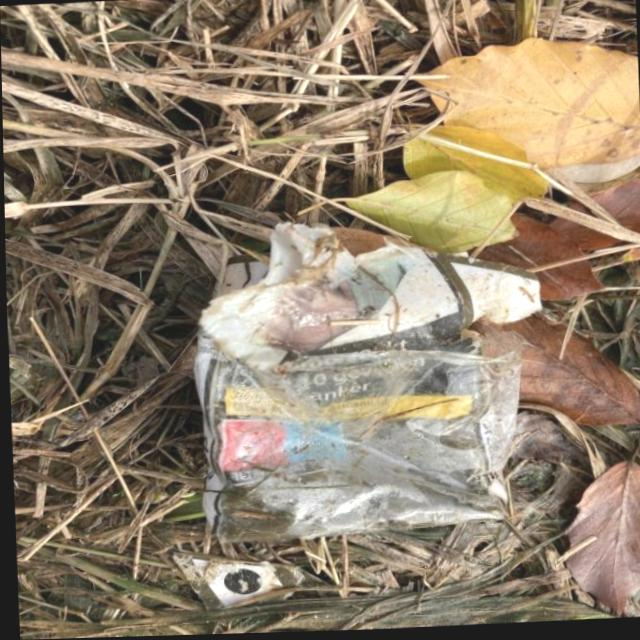Paper: (179, 209, 556, 557)
